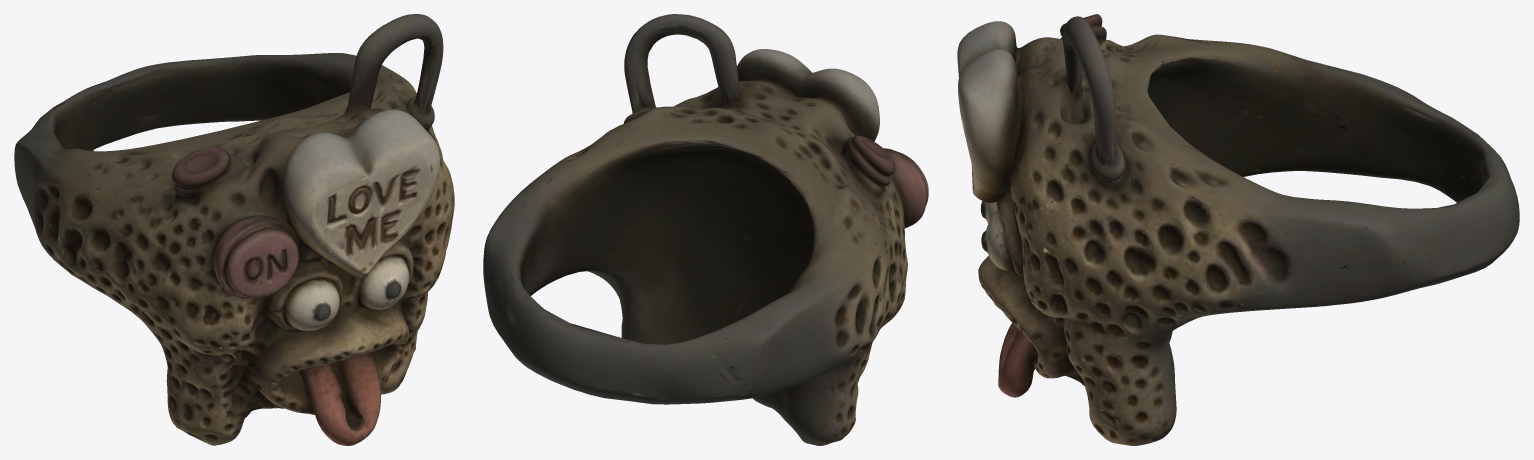
File: turnmeonring.glb
3 views of the same model, side by side, from view 1: azimuth 30°, elevation 25°; view 2: azimuth 150°, elevation 25°; view 3: azimuth 270°, elevation 25° (orthographic). The views are drawn at different scales.
Visible parts, largest first — view 1: node_0; view 2: node_0; view 3: node_0.
Part boxes in pixels (x1=…): node_0: x1=14, y1=14, x2=454, y2=445; node_0: x1=483, y1=14, x2=928, y2=445; node_0: x1=957, y1=14, x2=1519, y2=445.
Bounding box in the file's own units: 0.973 × 1.03 × 1.22.
1 material, 1 textured.
